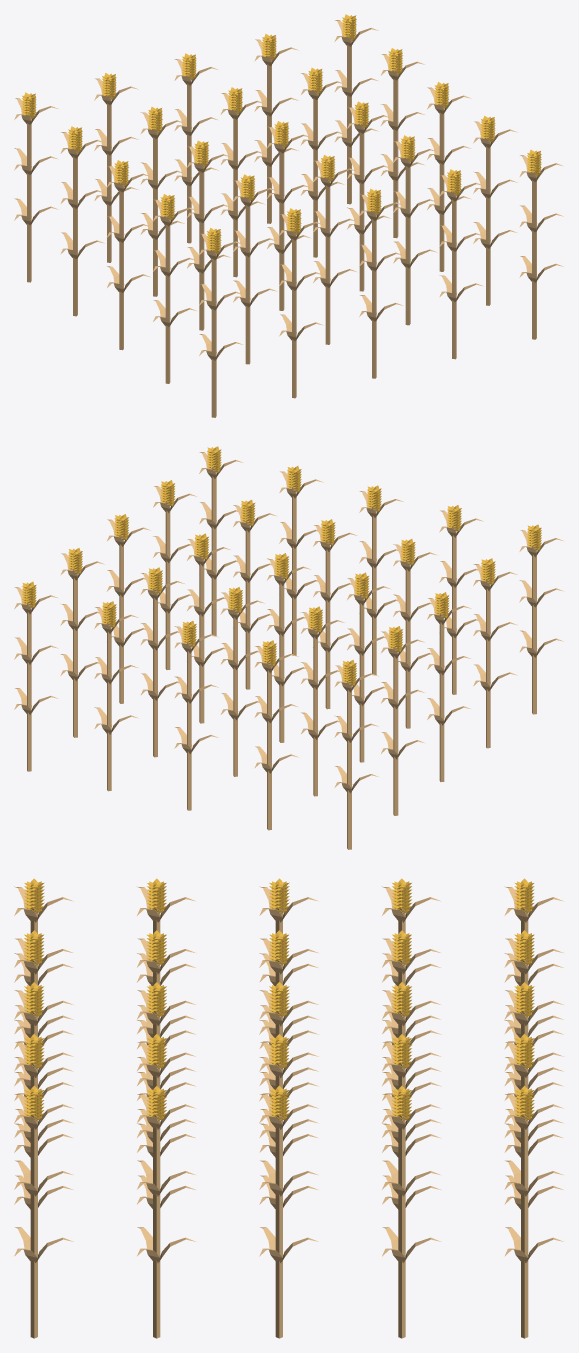
The model's file is harvest_alt.fbx.
The picture shows the model from 3 angles, top to bottom: view 1: azimuth 30°, elevation 25°; view 2: azimuth 150°, elevation 25°; view 3: azimuth 270°, elevation 25°; orthographic projection. The views are drawn at different scales.
Visible parts, largest first — view 1: harvest_alt; view 2: harvest_alt; view 3: harvest_alt.
Boxes of the visible parts, x1,y1,x2,y2 form: harvest_alt: (14, 14, 563, 417); harvest_alt: (14, 446, 564, 849); harvest_alt: (14, 878, 564, 1338).
Bounding box in the file's own units: 762 × 371 × 749.
